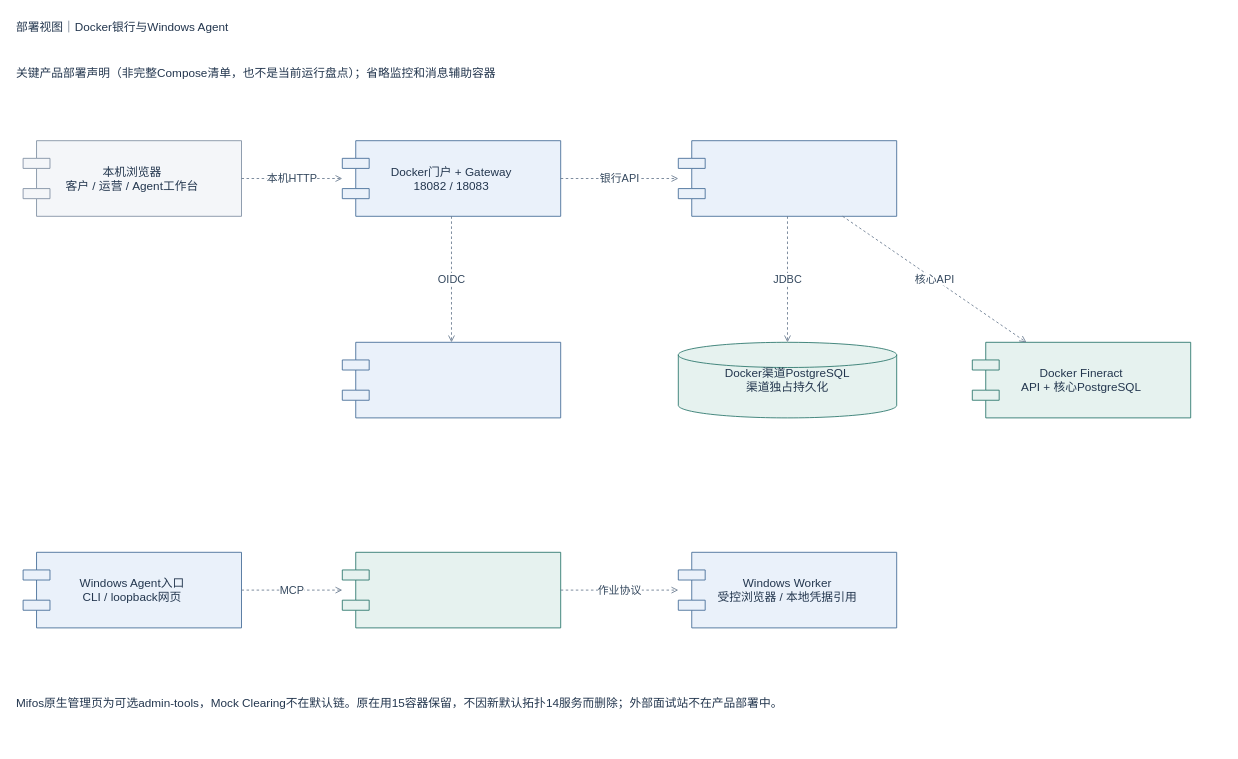
Some shapes in this 1238 by 759 pixel diagram are drawn without their labels. Each missing label, with the centre of its shape:
"Docker Bank Channel Java21 / 私有网络" belongs at (x=787, y=178).
"Docker Keycloak 授权码 + PKCE" belongs at (x=451, y=379).
"Windows MCP + Harness SQLite / Evidence / Quality" belongs at (x=451, y=589).
